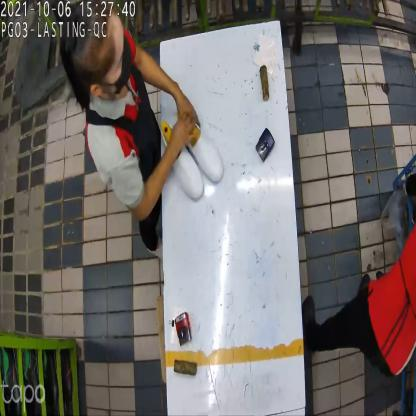shoes: (158, 115, 225, 200)
stamp: (172, 314, 196, 346), (256, 128, 275, 162)
